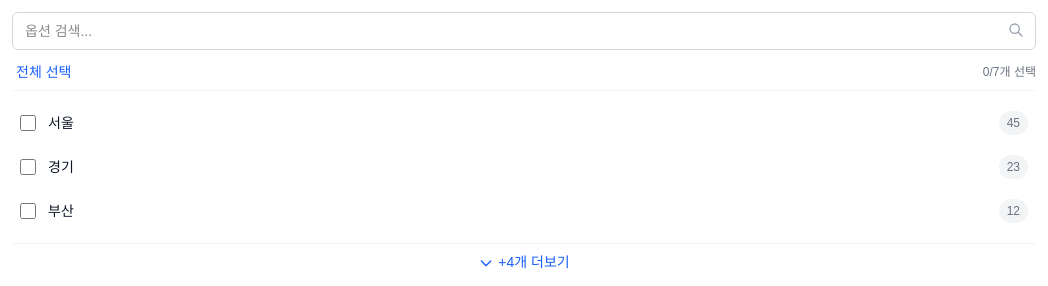
CheckboxFilter › should maintain search functionality with show more/less
Search for options that would be hidden by maxVisible
Type "대" into the field with placeholder "옵션 검색..." at [524, 31], box 12,12 -> 1036,50
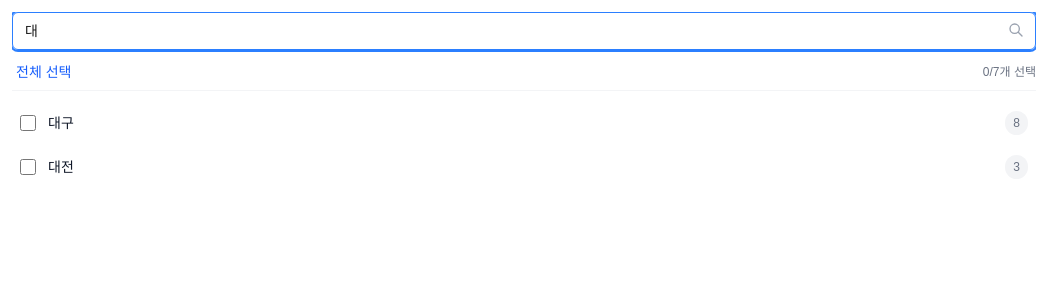
Expected: the text "대구" is shown, 48,115 -> 74,131
Expected: the text "대전" is shown, 48,159 -> 74,175
Expected: the text "서울" is gone
